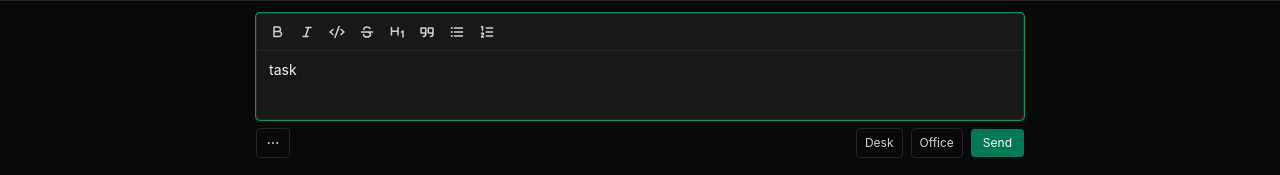
Scenario: PromptComposer markdown editing › toolbar Bulleted-list button prefixes the line
Click the button named "Bulleted list": point(457, 32) 443,18 -> 471,46
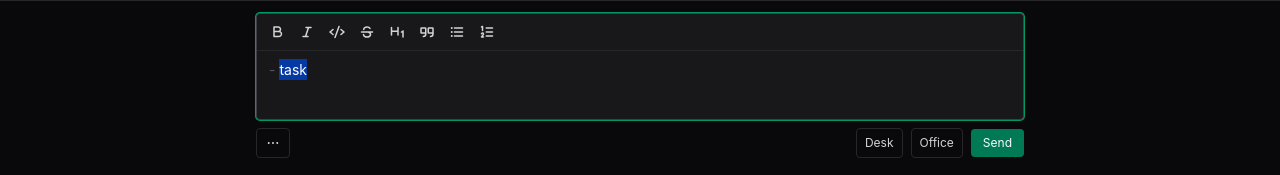
Now the text box labelled "- task" is shown, box 269,61 -> 307,78
